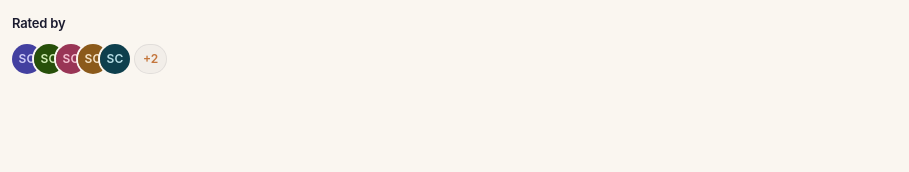
Test: RatedByRow — a rate-only rater is surfaced and shows name + score (AC-1 / AC-3) › shows the rater's score in the expanded grid (★ score), name resolved from kind-0
The width and height of the screenshot is (909, 172).
Step 1. Click the button → (151, 59), box [134,44,167,74]
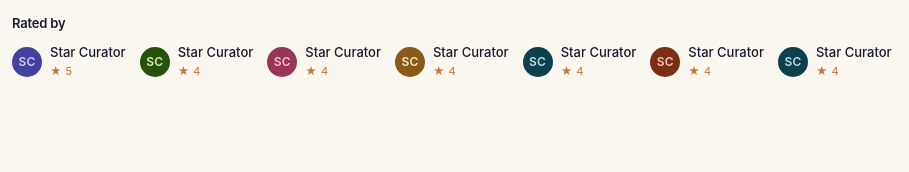
Check: the 1st text "Star Curator" is shown, box [50,44,126,61]
Check: the text "★ 5" is shown, box [50,64,73,78]
